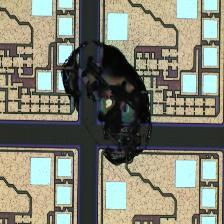BLOCK ETCH: (61, 42, 153, 167)
